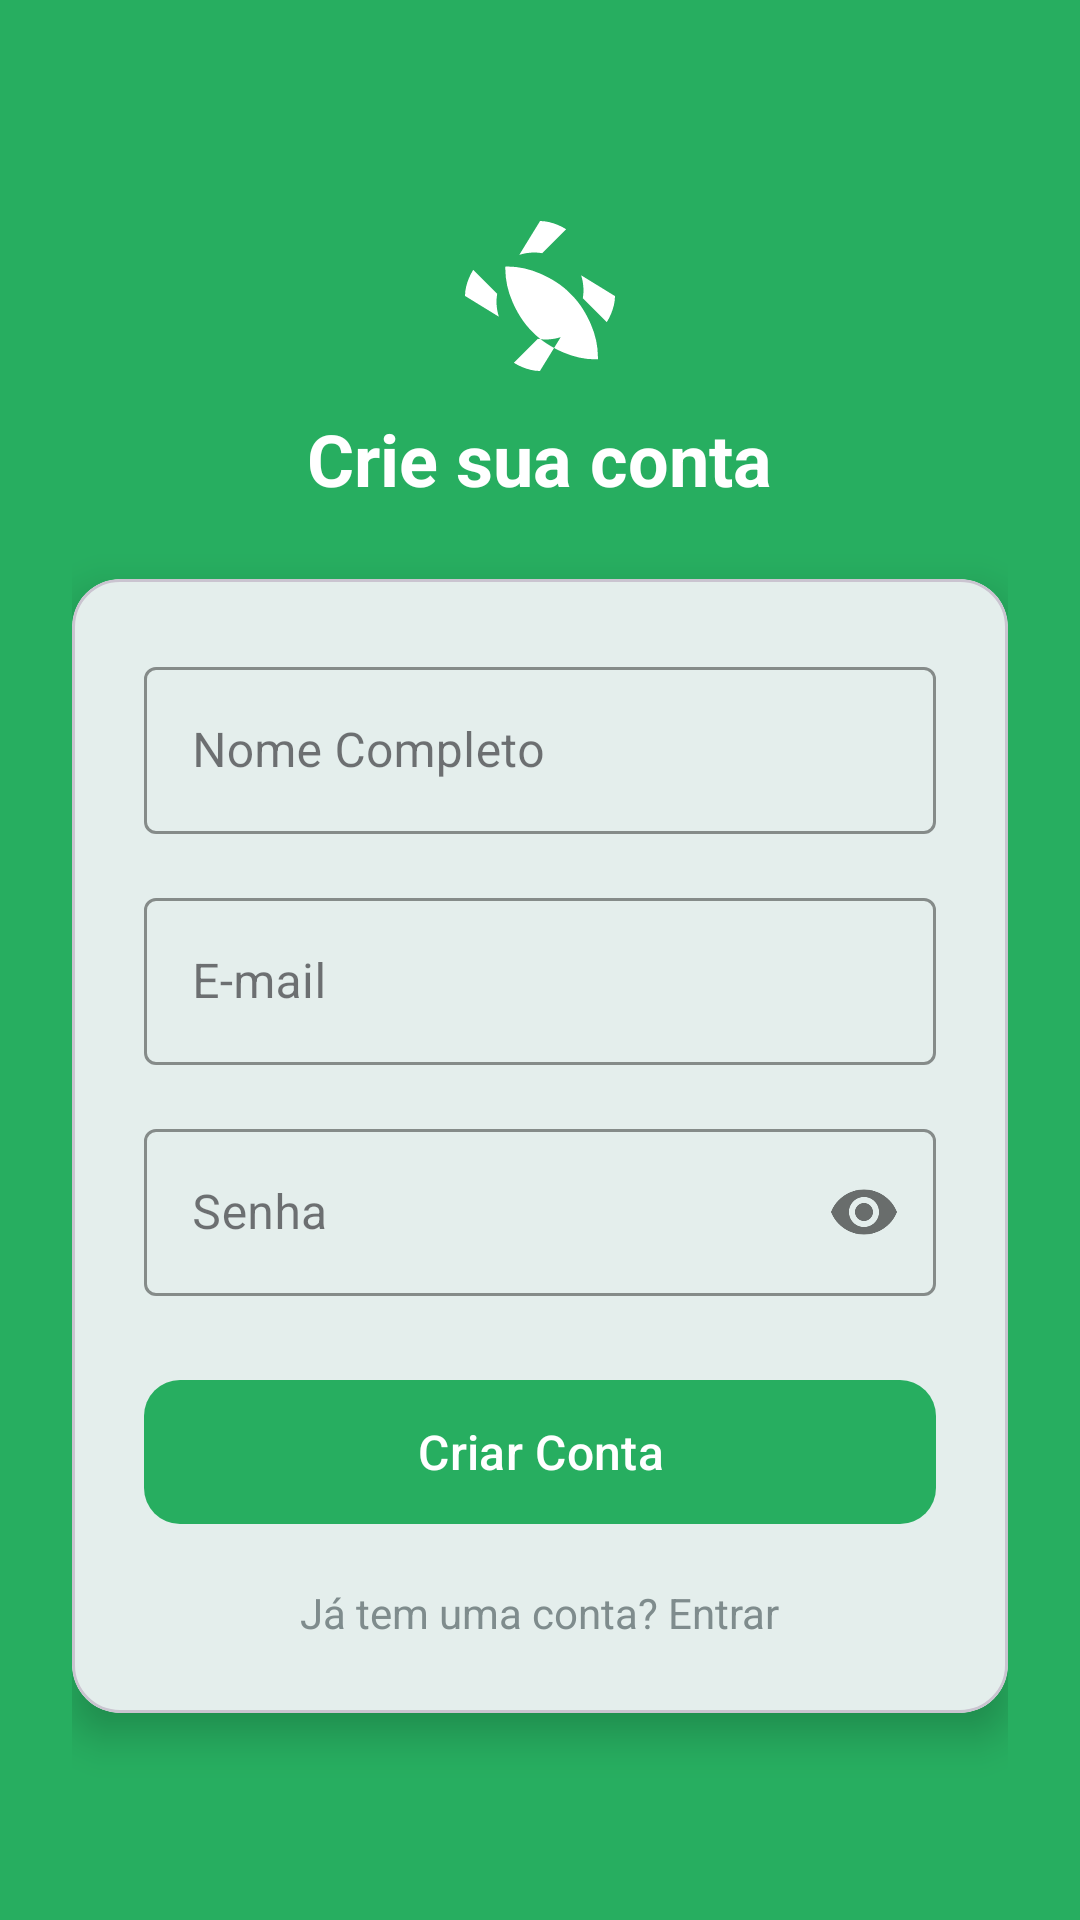

Named icons in this screenshot (1080×1920) and their centers, (x,y):
eco: (540,296)
